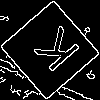K: (25, 25, 82, 80)
